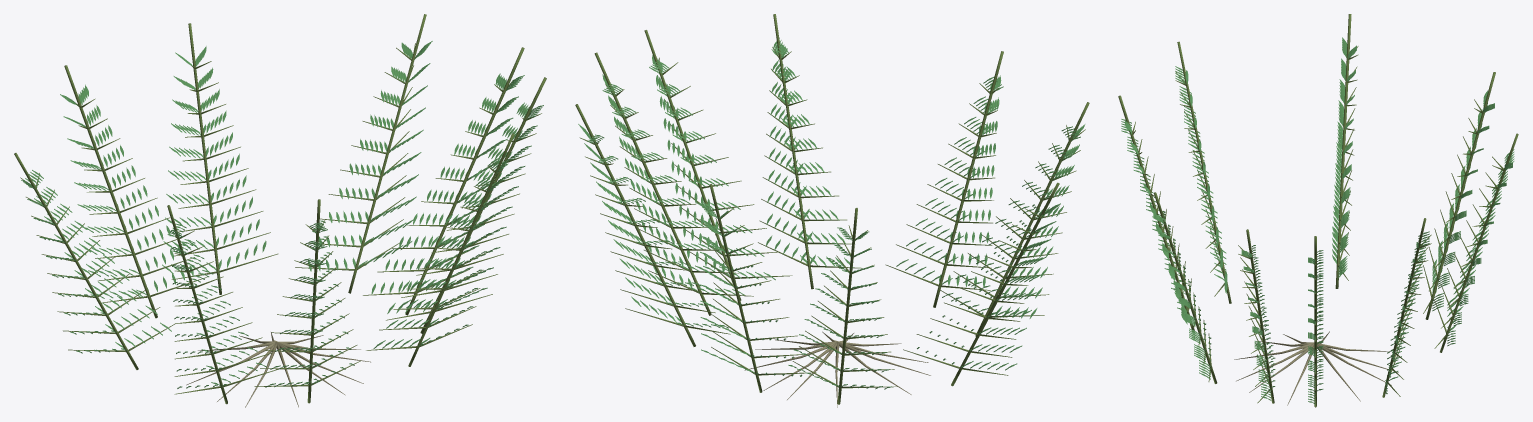
The model's file is christmas-desktop.glb.
The picture shows the model from 3 angles, left to right: view 1: azimuth 30°, elevation 25°; view 2: azimuth 150°, elevation 25°; view 3: azimuth 270°, elevation 25°; orthographic projection. The views are drawn at different scales.
Visible parts, largest first — view 1: moss-leaf, moss-branch, moss-axis, anchoring-root; view 2: moss-leaf, moss-branch, moss-axis, anchoring-root; view 3: moss-leaf, moss-axis, moss-branch, anchoring-root.
Boxes of the visible parts, box(x1,y1,x2,y2) form: moss-leaf: box(21, 41, 543, 388); moss-branch: box(20, 43, 541, 394); moss-axis: box(14, 14, 546, 404); anchoring-root: box(186, 332, 370, 407); moss-leaf: box(578, 38, 1085, 389); moss-branch: box(579, 47, 1085, 388); moss-axis: box(575, 14, 1089, 404); anchoring-root: box(744, 331, 930, 407); moss-leaf: box(1121, 37, 1514, 404); moss-axis: box(1118, 14, 1518, 407); moss-branch: box(1131, 46, 1504, 406); anchoring-root: box(1234, 331, 1398, 407).
Bounding box in the file's own units: 0.7545 × 0.3861 × 0.5708.
